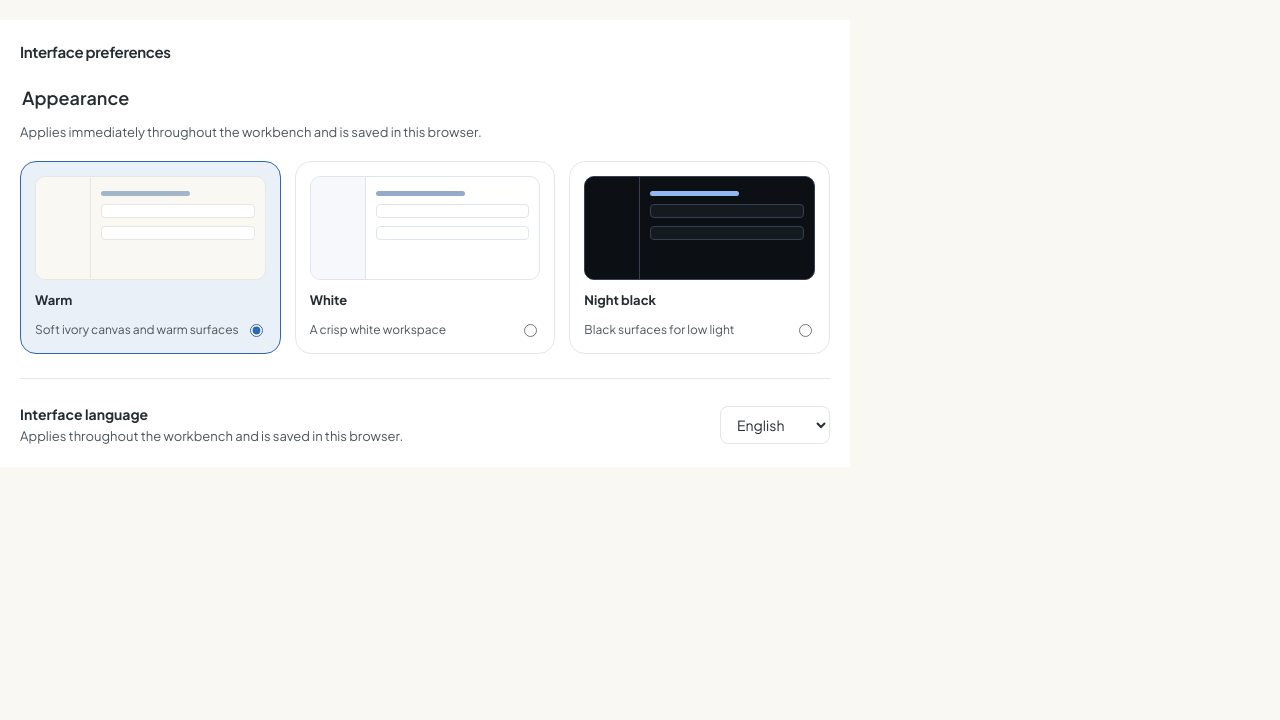
Test: explains failed persistence while continuing to apply the selected theme
Click the radio button labelled "Night black" at x=806, y=330, box [799,324,812,337]
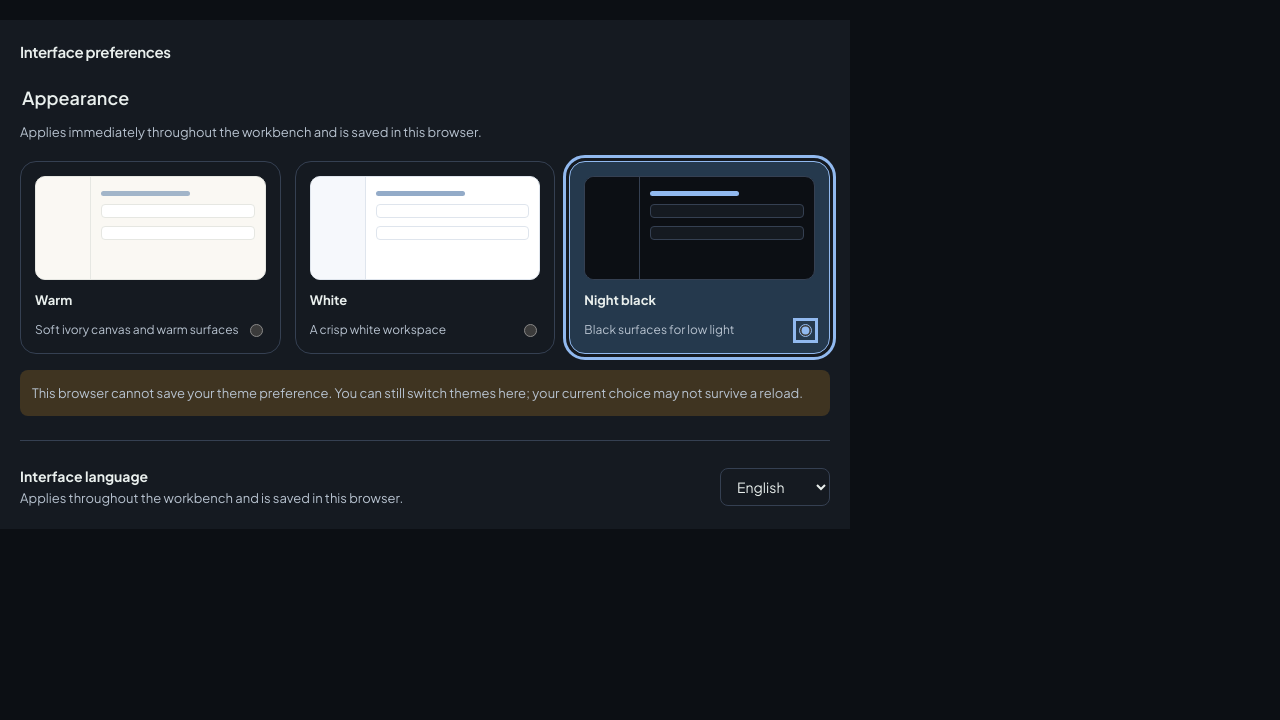
expect the radio button labelled "Night black" is checked: met, box [799,324,812,337]
expect the message shows "This browser cannot save your theme preference": met, box [32,385,803,401]
